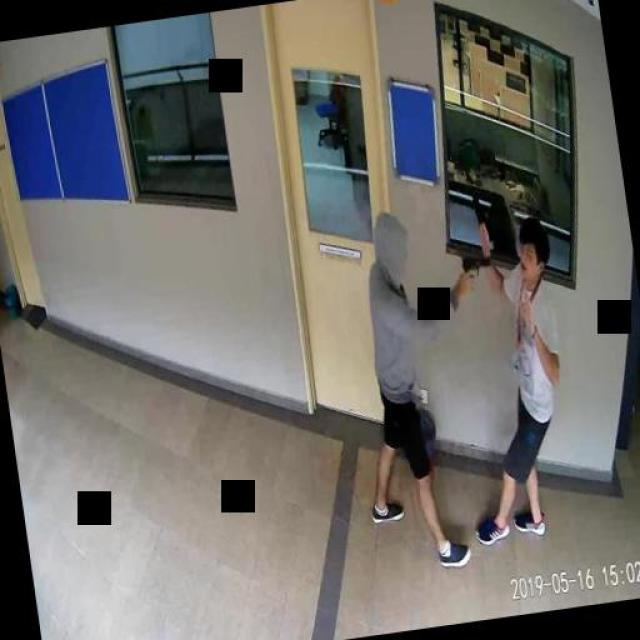gun: (458, 251, 492, 290)
